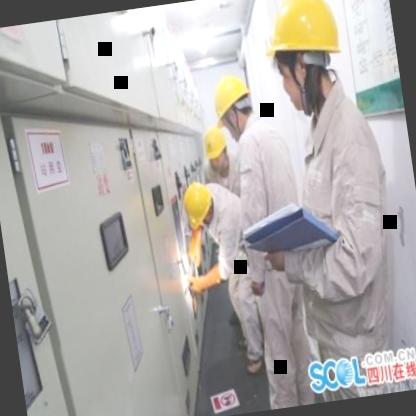helmet: (254, 0, 353, 120), (209, 67, 258, 142), (178, 177, 219, 233), (198, 120, 233, 176)
